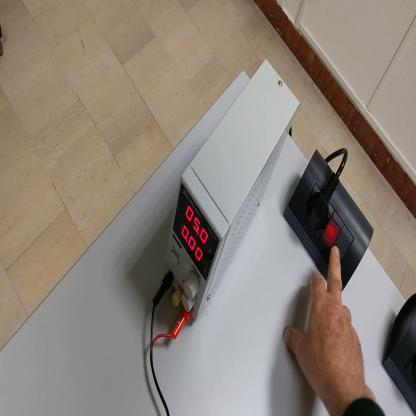hand: (284, 244, 368, 403)
power supply: (165, 52, 300, 321)
socket: (284, 149, 374, 293), (385, 293, 416, 414)
